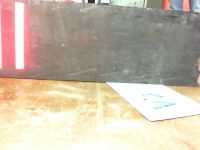switch: (14, 2, 25, 70)
